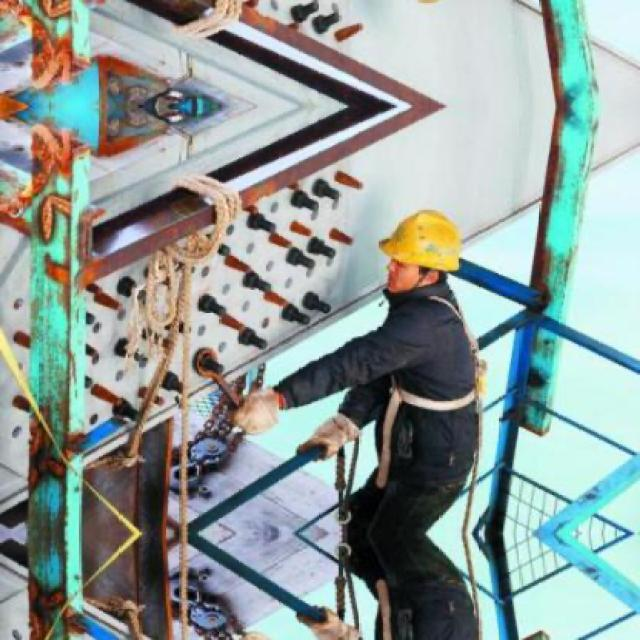con casco: (359, 207, 468, 286)
